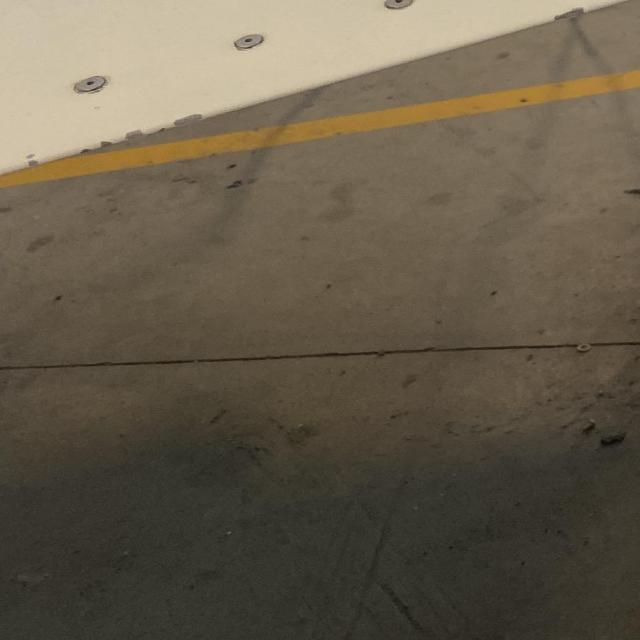Paint-off: (550, 9, 586, 23), (170, 115, 202, 129)
